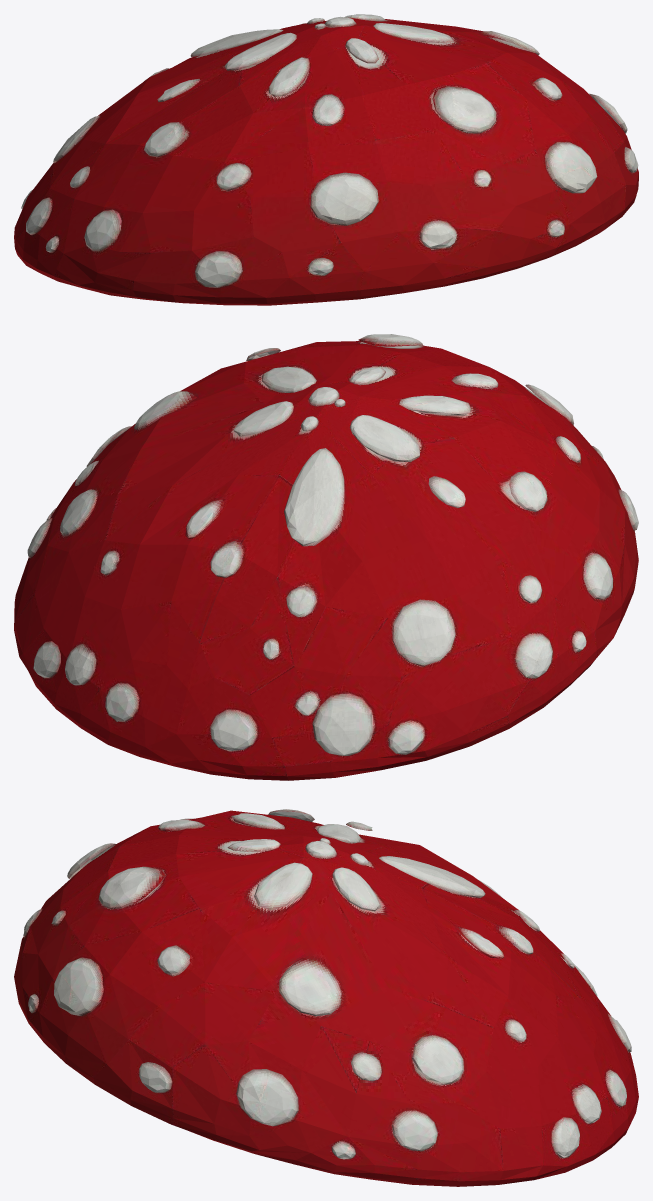
Rendered from ewm_mushroomcap_big.glb.
The picture shows the model from 3 angles, top to bottom: view 1: azimuth 30°, elevation 25°; view 2: azimuth 150°, elevation 25°; view 3: azimuth 270°, elevation 25°; orthographic projection.
Visible parts, largest first — view 1: ewm_mushroomcap_big; view 2: ewm_mushroomcap_big; view 3: ewm_mushroomcap_big.
Part boxes in pixels (x1,y1,x2,y2): ewm_mushroomcap_big: [14, 14, 638, 305]; ewm_mushroomcap_big: [14, 334, 638, 780]; ewm_mushroomcap_big: [14, 809, 638, 1186].
Size of the model in its own units: 0.6632 by 0.3054 by 0.6616.
Materials: 1 (1 with a texture image).
